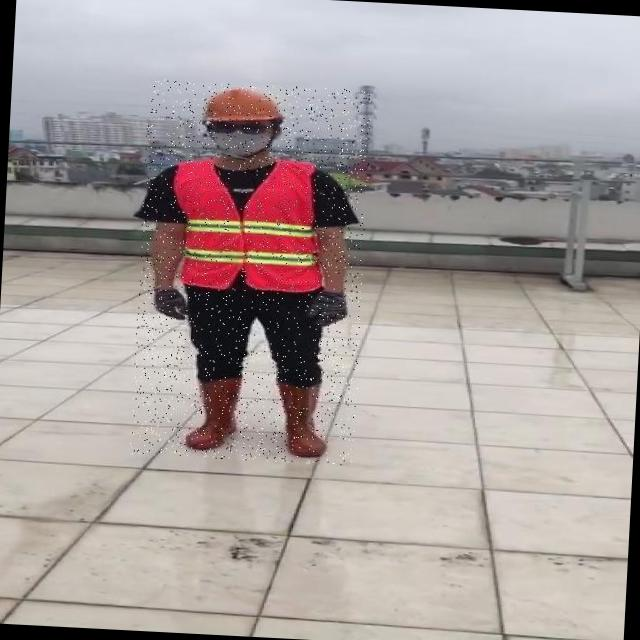hard_hat: (198, 85, 286, 127)
safety_vest: (168, 157, 326, 294)
vehicle: (130, 79, 373, 466)
work_boots: (268, 382, 336, 458), (183, 375, 246, 452)
